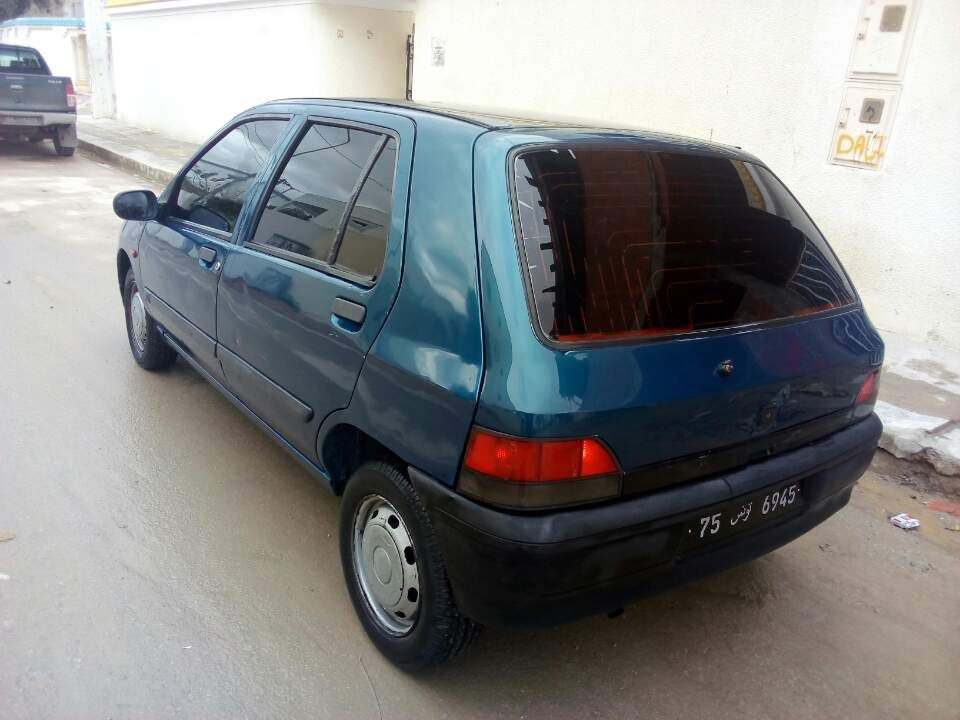LP: (672, 482, 816, 557)
